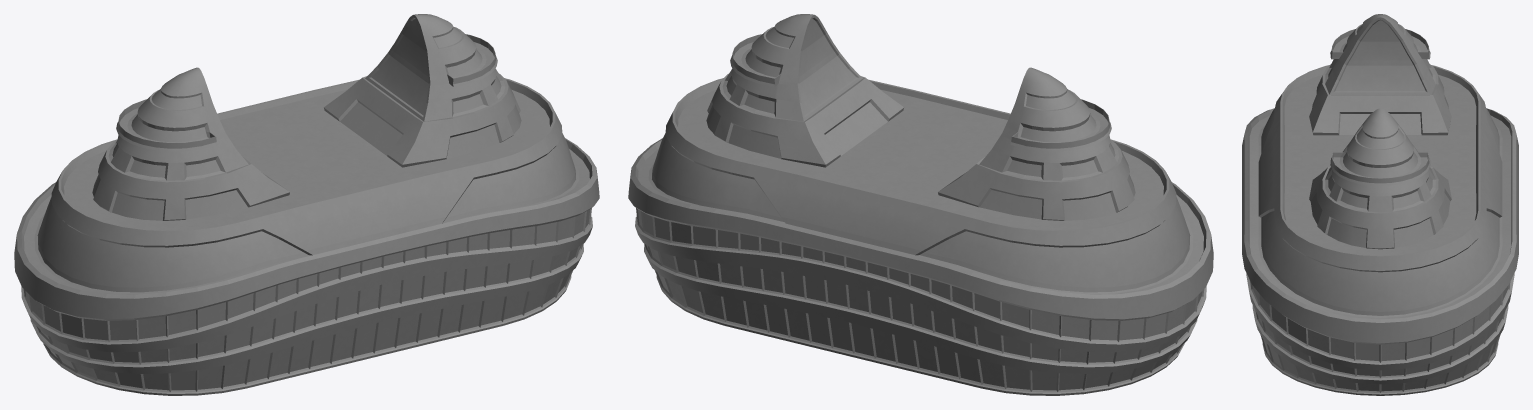
Rendered from bldg_sQt_TW_000.FBX.
3 renders of one model, left to right at view 1: azimuth 30°, elevation 25°; view 2: azimuth 150°, elevation 25°; view 3: azimuth 270°, elevation 25°, orthographic. The views are drawn at different scales.
Visible parts, largest first — view 1: bldg_sqt_TW_00; view 2: bldg_sqt_TW_00; view 3: bldg_sqt_TW_00.
Part boxes in pixels (bbox=[...]): bldg_sqt_TW_00: bbox=[14, 14, 599, 395]; bldg_sqt_TW_00: bbox=[628, 14, 1213, 395]; bldg_sqt_TW_00: bbox=[1242, 14, 1518, 395].
Bounding box in the file's own units: 105 × 49.1 × 53.62.
1 material, 1 textured.
